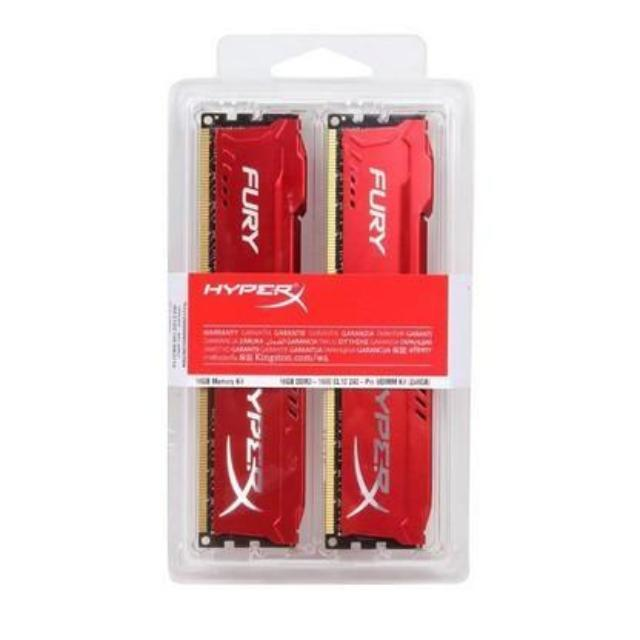RAM: (190, 107, 313, 553), (319, 106, 441, 548)
